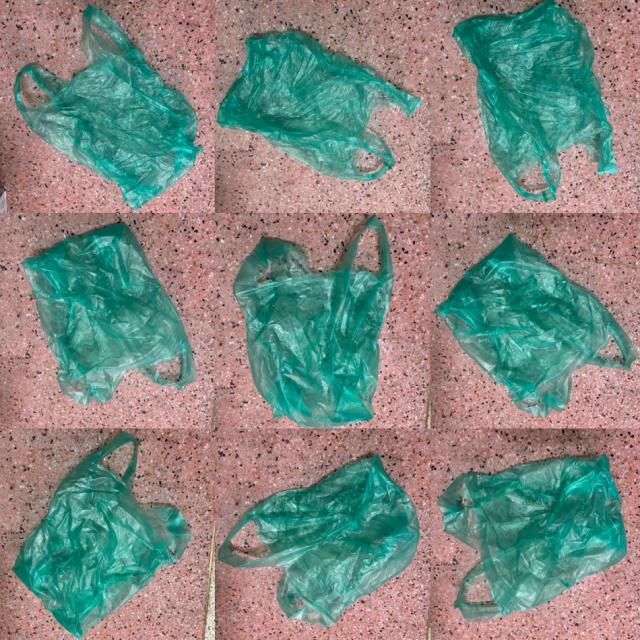plastik: (13, 7, 201, 210), (435, 235, 637, 417), (13, 433, 191, 638), (219, 456, 420, 626), (233, 216, 393, 428), (453, 0, 617, 201), (22, 223, 196, 405), (438, 455, 627, 621), (218, 31, 421, 180)
